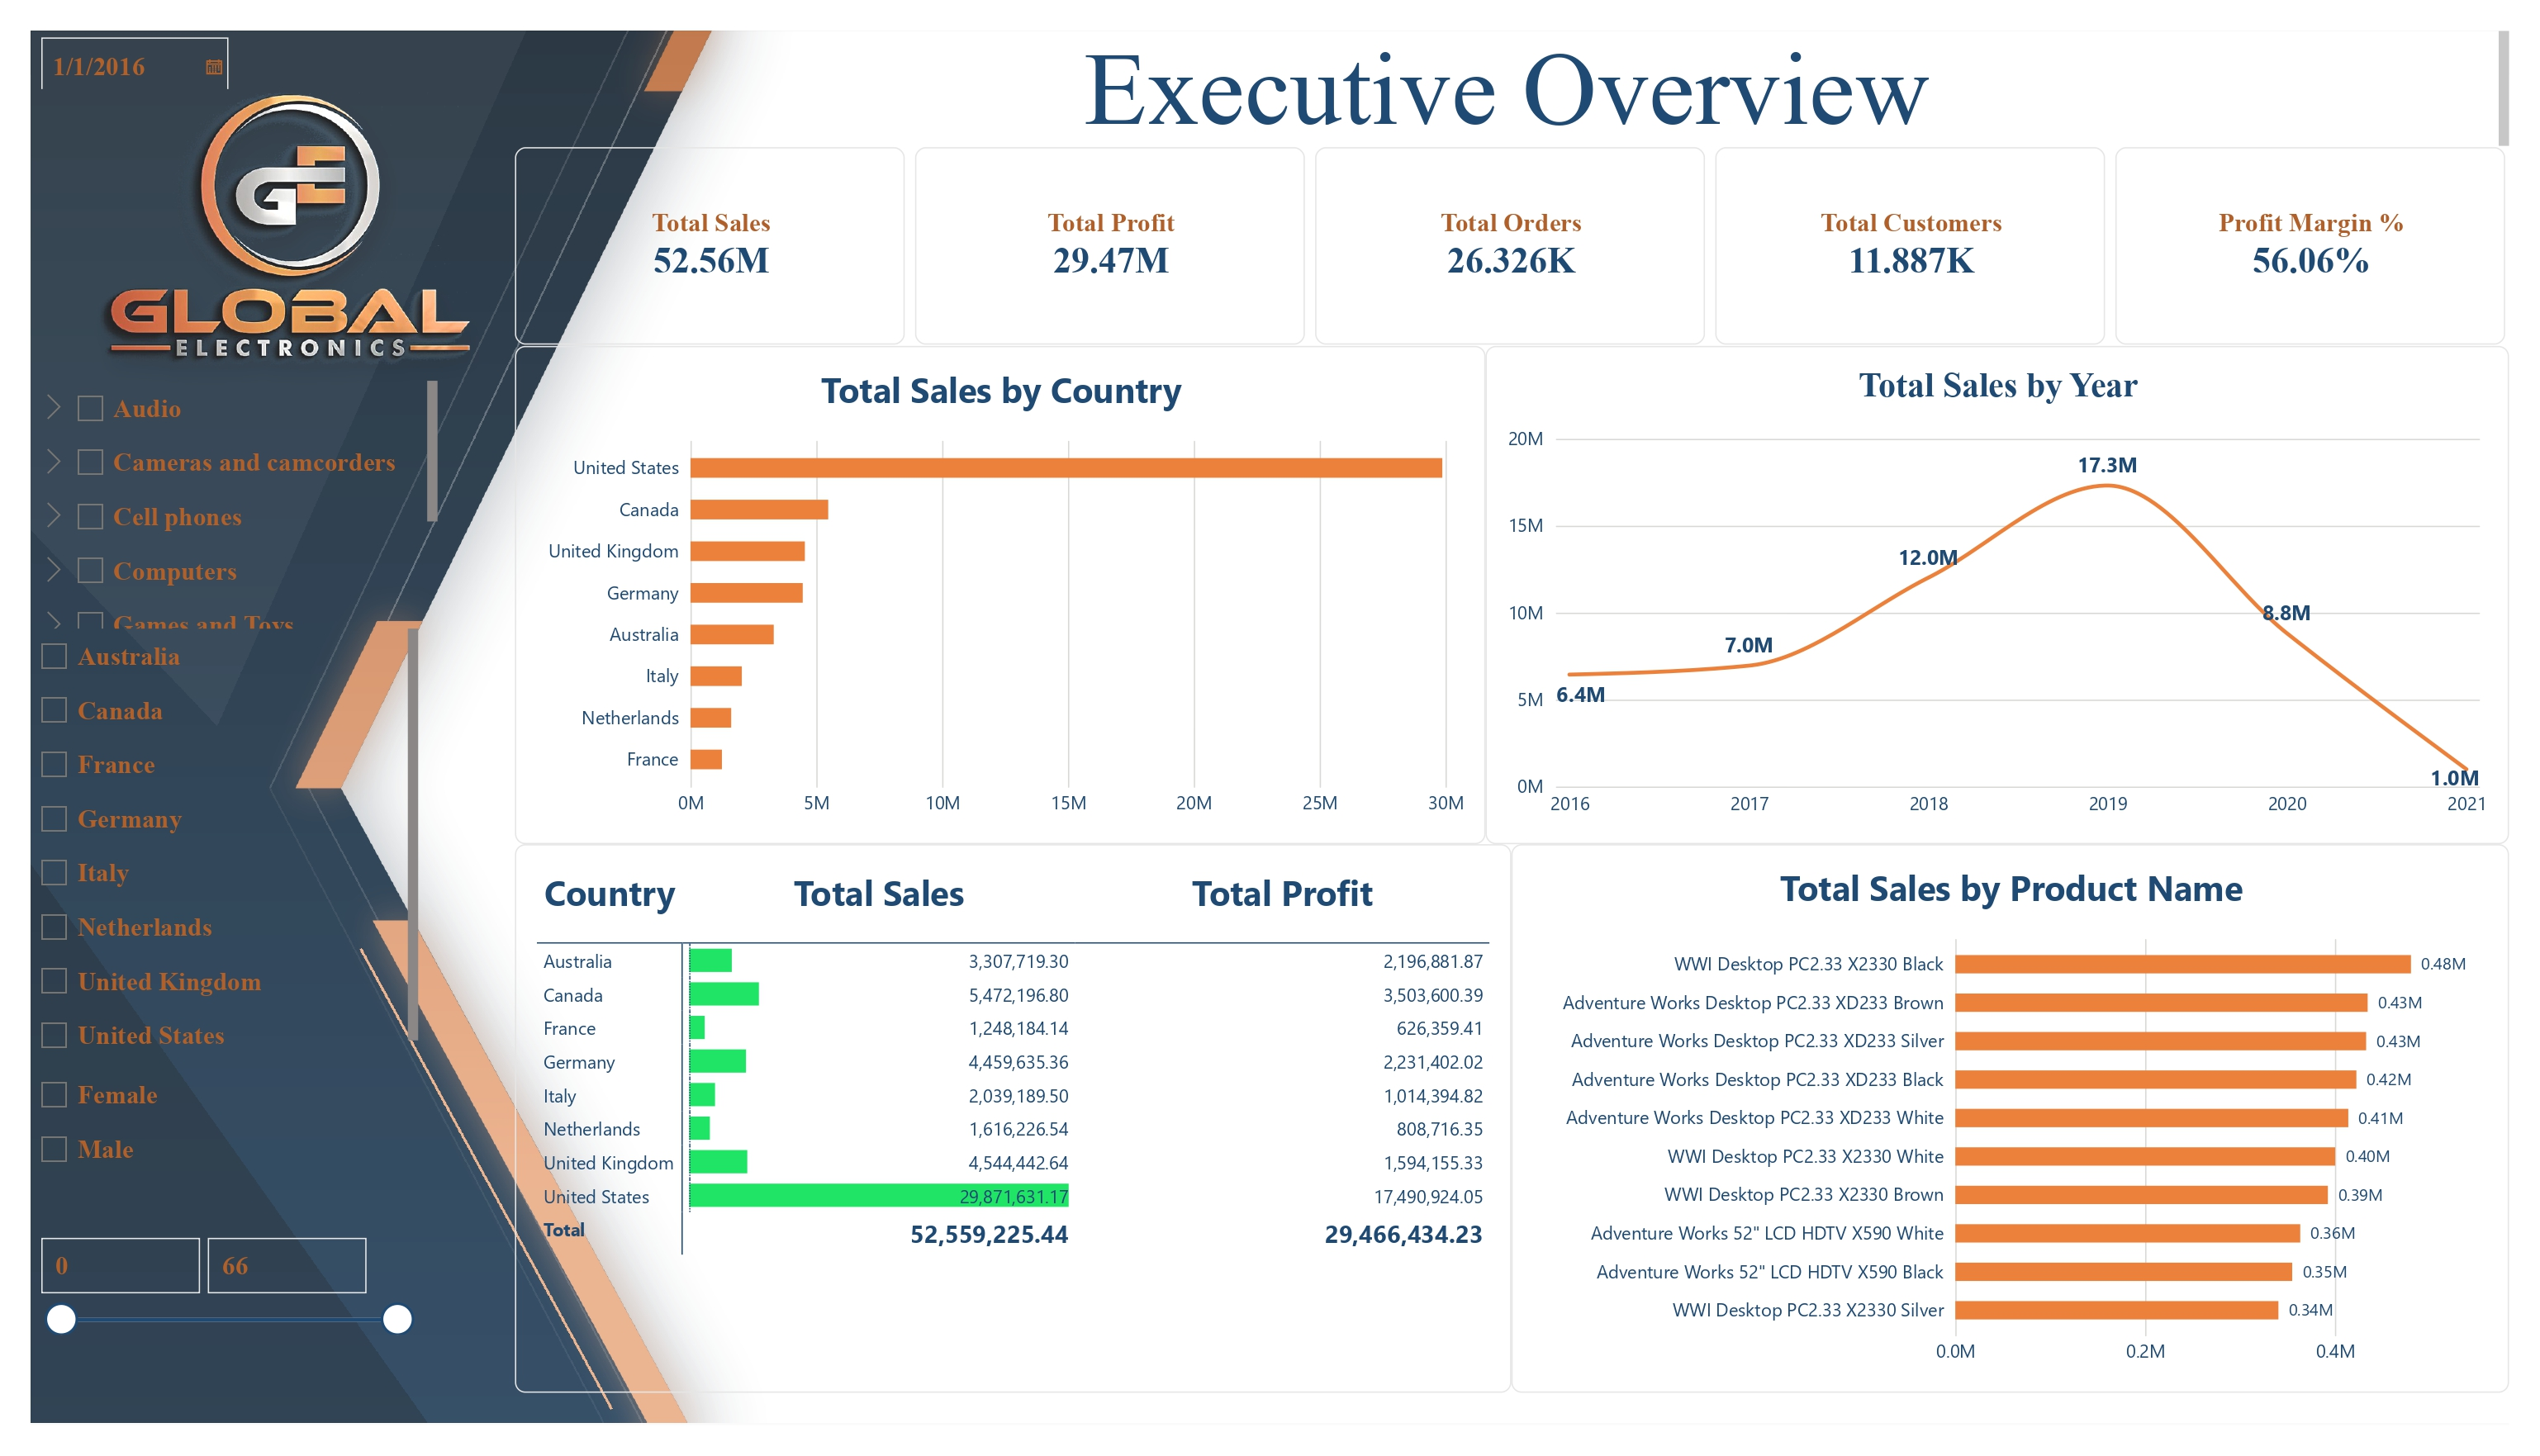

The dashboard page shown, as its layout file describes it:
{"tool":"powerbi","page":{"name":"Executive Overview","canvas":[1920,1080],"ordinal":1},"visuals":[{"type":"textbox","box":[374.6,0,1545.5,90.5],"z":0},{"type":"slicer","fields":{"Values":["Sales.Order Date"]},"box":[0,0,300.4,45.2],"z":1},{"type":"slicer","fields":{"Values":["Products.Category","Products.Brand"]},"box":[0,271.4,314.9,191.8],"z":2},{"type":"slicer","fields":{"Values":["Customers.Country"]},"box":[0,463.3,300.4,331.2],"z":3},{"type":"slicer","fields":{"Values":["Customers.Gender"]},"box":[0,803.5,300.4,103.2],"z":4},{"type":"slicer","fields":{"Values":["Sales.StoreKey"]},"box":[0,930.2,300.4,79.6],"z":5},{"type":"cardVisual","fields":{"Data":["_Measures.Total Sales","_Measures.Total Profit","_Measures.Total Orders","_Measures.Total Customers","_Measures.Profit Margin %"]},"box":[374.6,90.5,1545.5,153.8],"z":6},{"type":"lineChart","fields":{"Category":["Sales.Order Date.Variation.Date Hierarchy.Year"],"Y":["_Measures.Total Sales"]},"box":[1127.4,244.3,792.6,385.5],"z":7},{"type":"clusteredBarChart","fields":{"Category":["Customers.Country"],"Y":["_Measures.Total Sales"]},"box":[374.6,244.3,752.8,385.5],"z":8},{"type":"clusteredBarChart","fields":{"Category":["Products.Product Name"],"Y":["_Measures.Total Sales"]},"box":[1147.3,629.8,772.7,425.3],"z":9},{"type":"pivotTable","fields":{"Rows":["Customers.Country"],"Values":["_Measures.Total Sales","_Measures.Total Profit"]},"box":[374.6,629.8,772.7,425.3],"z":10}]}

Visuals, with their boxes on the page's 1920x1080 design canvas (x1, y1, x2, y2). These are canvas units, not pixel positions in the 2540x1456 screenshot, which may show the page scaled, cropped or inside an application window:
textbox: 375:0:1920:90
slicer - Sales.Order Date: 0:0:300:45
slicer - Products.Category x Products.Brand: 0:271:315:463
slicer - Customers.Country: 0:463:300:794
slicer - Customers.Gender: 0:804:300:907
slicer - Sales.StoreKey: 0:930:300:1010
cardVisual - _Measures.Total Sales x _Measures.Total Profit: 375:90:1920:244
lineChart - Sales.Order Date.Variation.Date Hierarchy.Year x _Measures.Total Sales: 1127:244:1920:630
clusteredBarChart - Customers.Country x _Measures.Total Sales: 375:244:1127:630
clusteredBarChart - Products.Product Name x _Measures.Total Sales: 1147:630:1920:1055
pivotTable - Customers.Country x _Measures.Total Sales: 375:630:1147:1055
